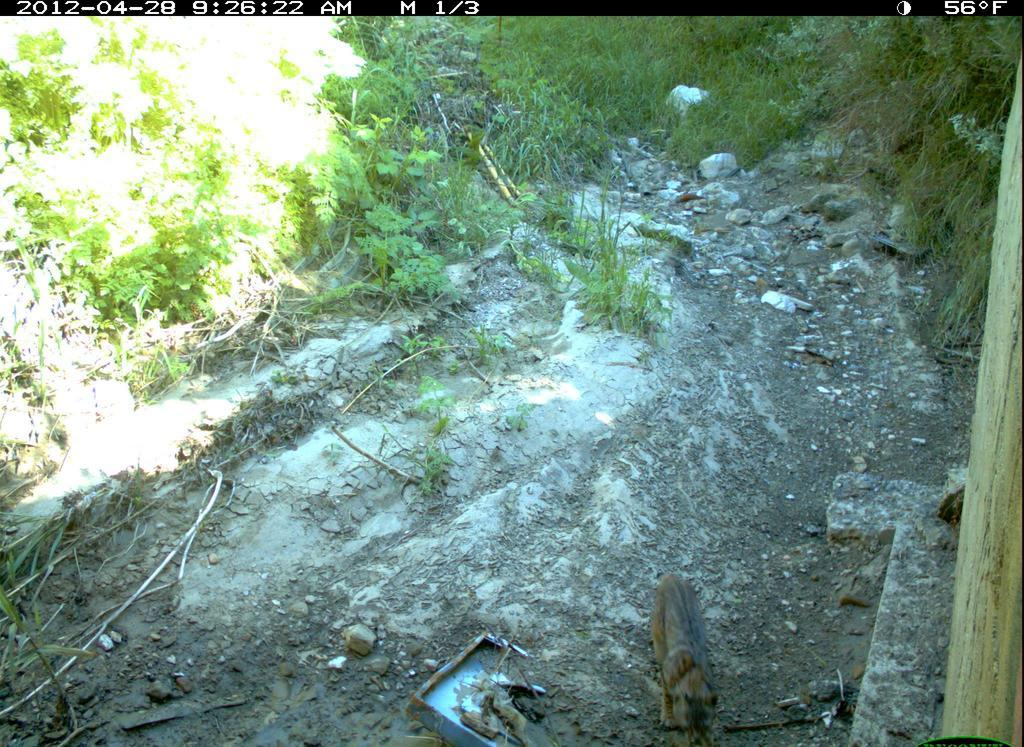bobcat: (651, 570, 747, 742)
